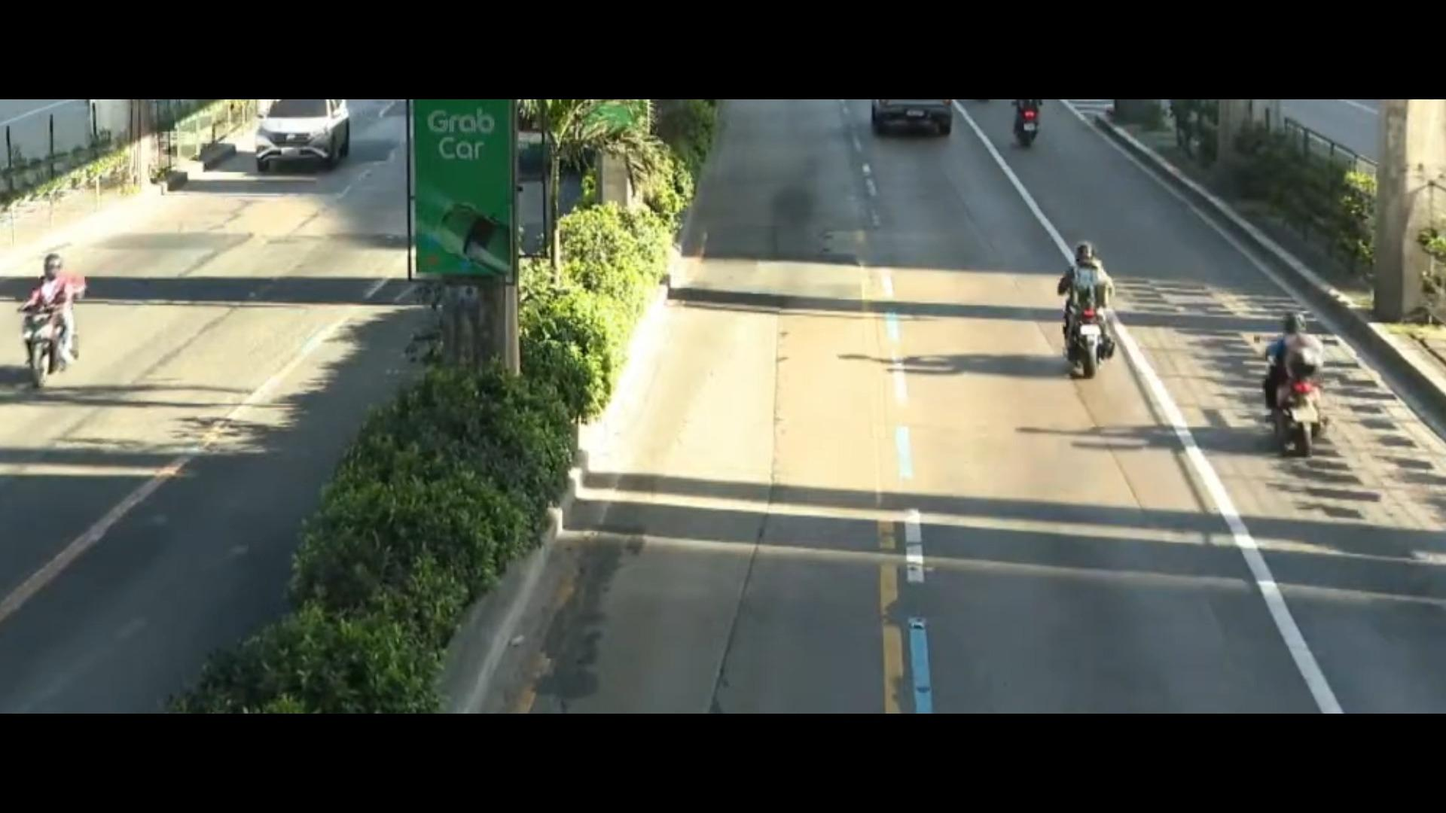Motorcycle: (1232, 296, 1362, 467), (0, 230, 113, 389), (1041, 221, 1136, 399), (1008, 102, 1053, 164)
SUV: (233, 96, 360, 188)
